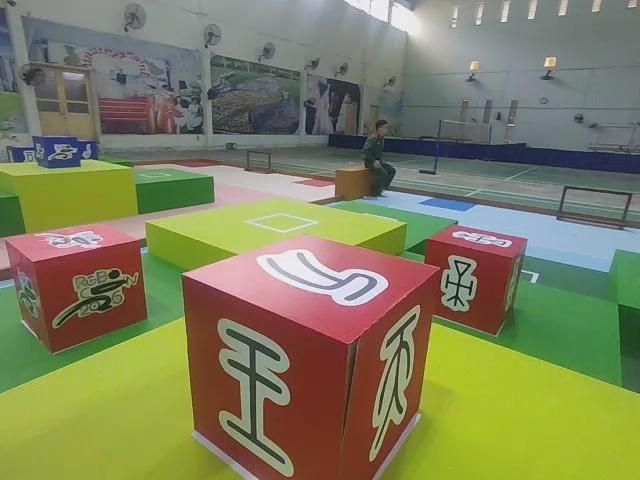R1: (4, 222, 147, 354)
R2 Fake: (181, 234, 441, 480)
R2 Real: (425, 226, 529, 335)
